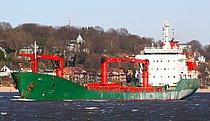Ship: (9, 20, 203, 102)
